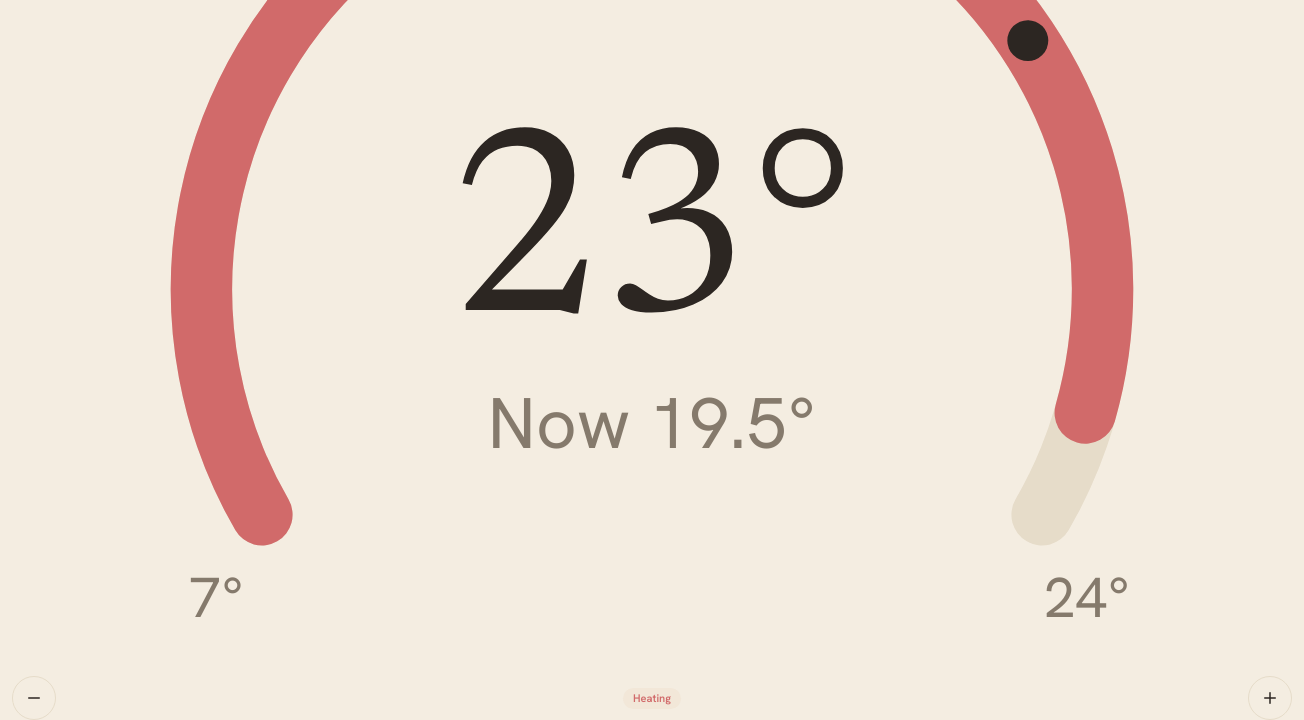
Scenario: SetpointRow — holding a stepper › a hold that reaches the device’s limit stops there
(page scrolled)
Press the mouse on the button named "raise": {"x": 1270, "y": 698} [1248, 676, 1292, 719]
Wait 5000 ms
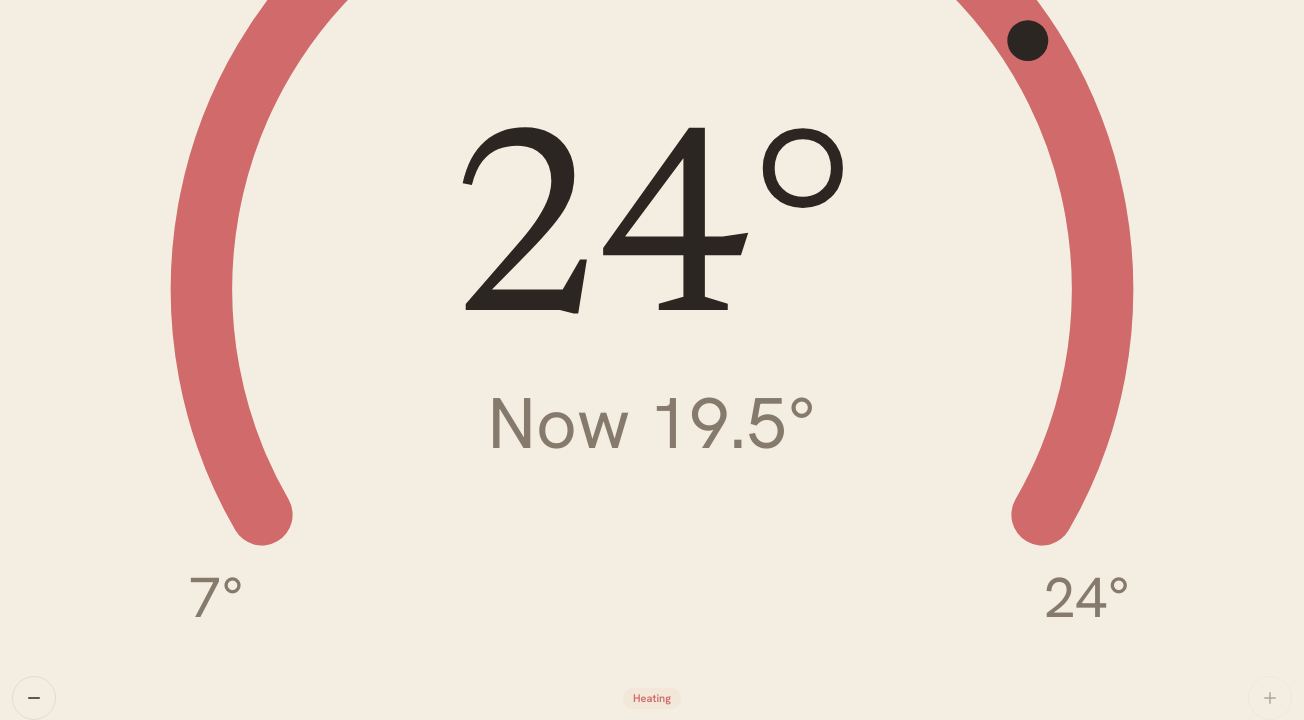
Now the button named "raise" is disabled, box [1248, 676, 1292, 719]
